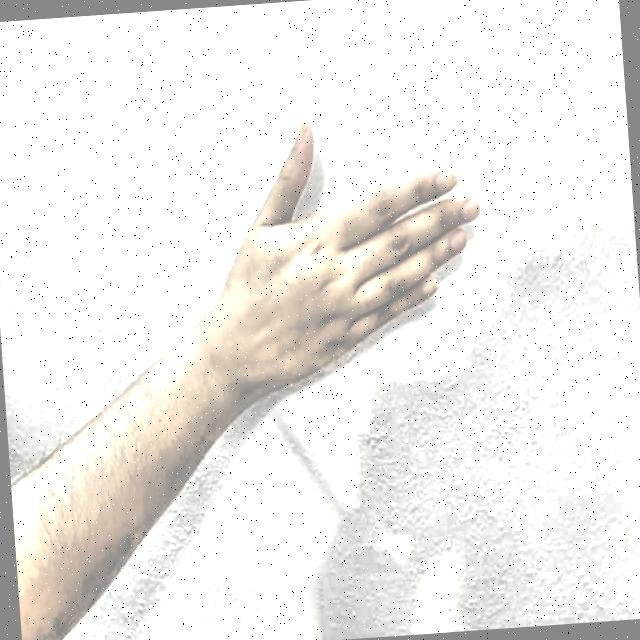Aa: (193, 61, 518, 452)
